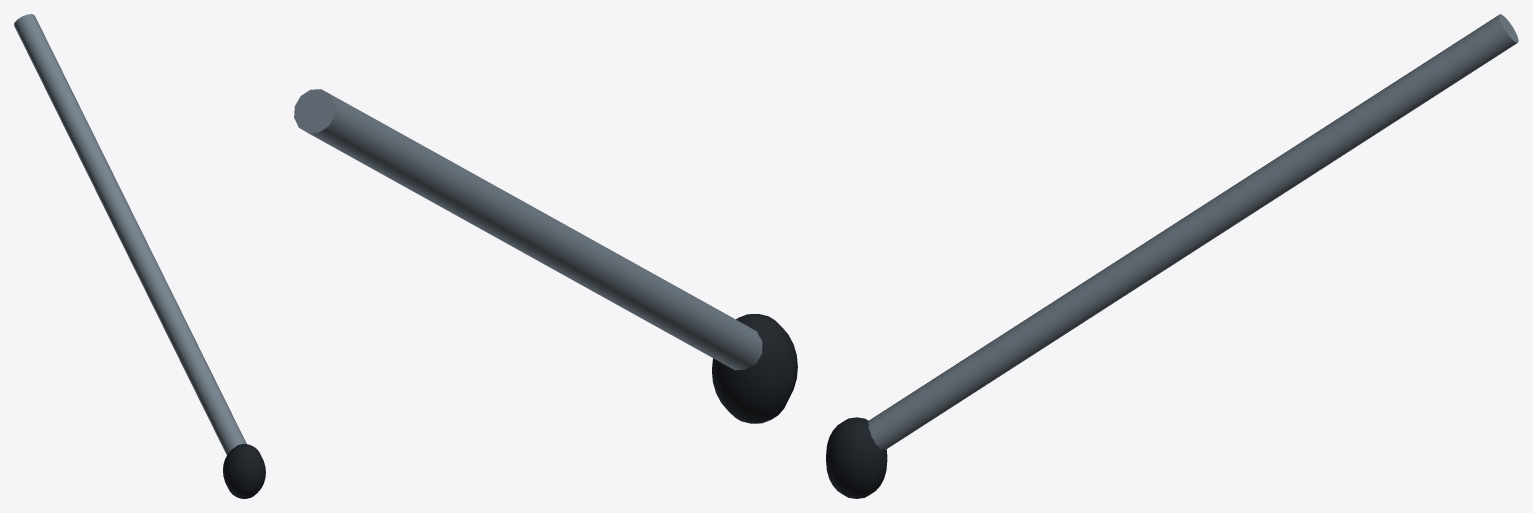
Rendered from ingenuity.leg_03.glb.
3 renders of one model, left to right at view 1: azimuth 30°, elevation 25°; view 2: azimuth 150°, elevation 25°; view 3: azimuth 270°, elevation 25°, orthographic. The views are drawn at different scales.
Parts seen in each view (by area): view 1: ingenuity.leg_03.mesh_Machined_steel, ingenuity.leg_03.mesh_Carbon_composite; view 2: ingenuity.leg_03.mesh_Machined_steel, ingenuity.leg_03.mesh_Carbon_composite; view 3: ingenuity.leg_03.mesh_Machined_steel, ingenuity.leg_03.mesh_Carbon_composite.
Part boxes in pixels (bbox=[...]): ingenuity.leg_03.mesh_Machined_steel: bbox=[14, 14, 246, 454]; ingenuity.leg_03.mesh_Carbon_composite: bbox=[223, 444, 265, 498]; ingenuity.leg_03.mesh_Machined_steel: bbox=[294, 89, 762, 370]; ingenuity.leg_03.mesh_Carbon_composite: bbox=[712, 314, 797, 423]; ingenuity.leg_03.mesh_Machined_steel: bbox=[868, 14, 1518, 449]; ingenuity.leg_03.mesh_Carbon_composite: bbox=[826, 417, 887, 498].
Bounding box in the file's own units: 0.018 × 0.1489 × 0.1943.
